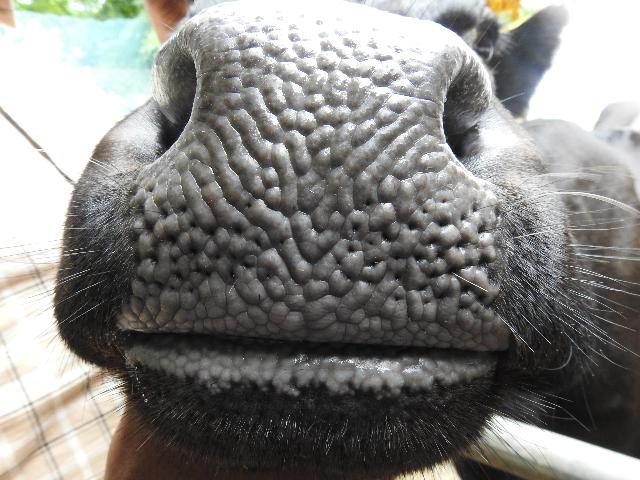Muzzle: (195, 20, 445, 340)
